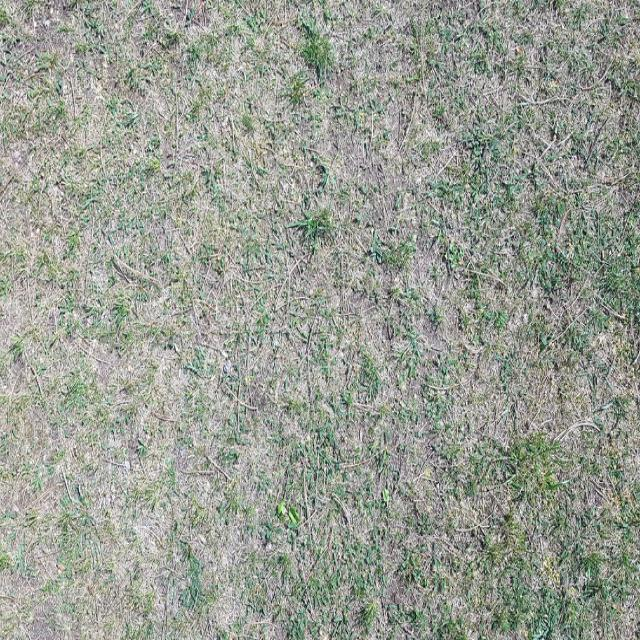grass: (137, 274, 143, 280)
